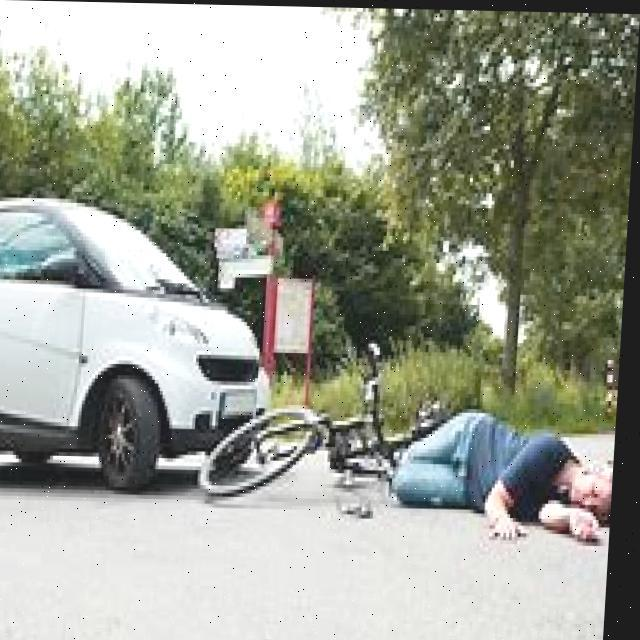multiple_accident: (9, 304, 613, 548)
